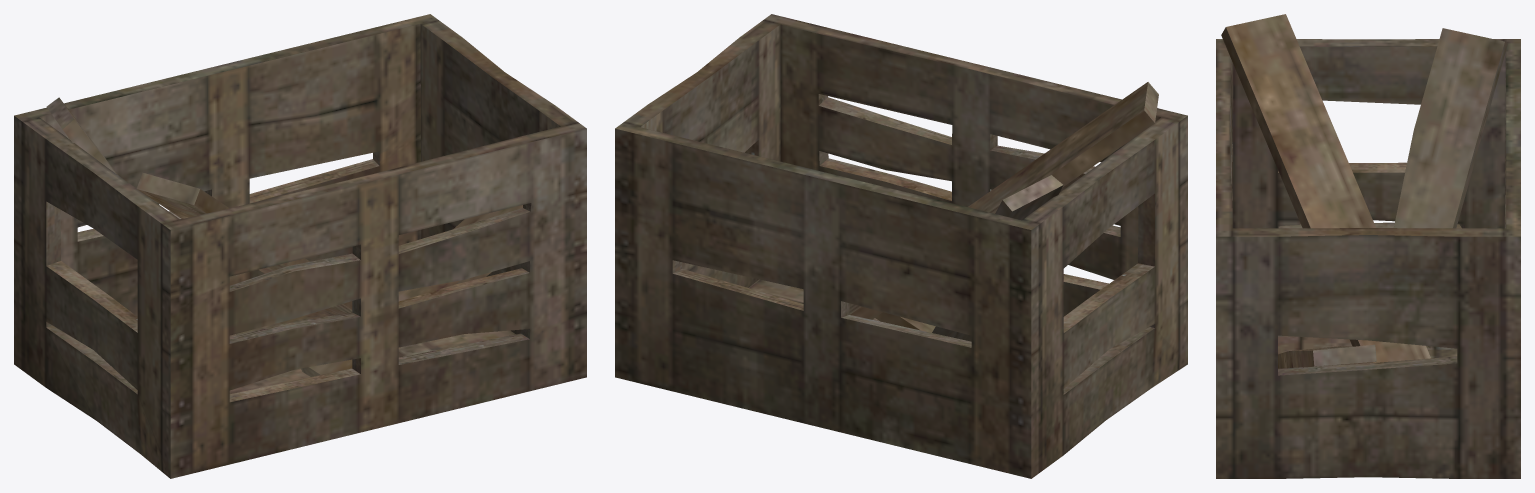
The model's file is WoodXiangZi.fbx.
3 renders of one model, left to right at view 1: azimuth 30°, elevation 25°; view 2: azimuth 150°, elevation 25°; view 3: azimuth 270°, elevation 25°, orthographic. The views are drawn at different scales.
Visible parts, largest first — view 1: 3D_WoodXiangZi.mo; view 2: 3D_WoodXiangZi.mo; view 3: 3D_WoodXiangZi.mo.
Boxes of the visible parts, x1,y1,x2,y2 form: 3D_WoodXiangZi.mo: [14, 14, 586, 478]; 3D_WoodXiangZi.mo: [615, 14, 1187, 478]; 3D_WoodXiangZi.mo: [1216, 14, 1520, 478].
Bounding box in the file's own units: 18.41 × 10.72 × 10.93.
Materials: 1 (1 with a texture image).
